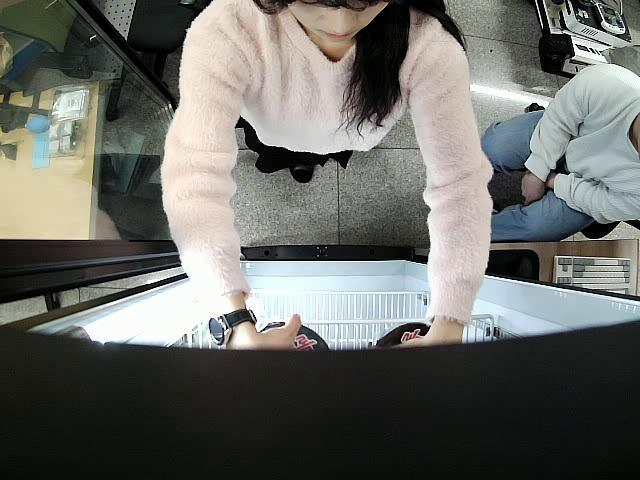07_buldak_L: (266, 322, 332, 354), (375, 320, 433, 352)
